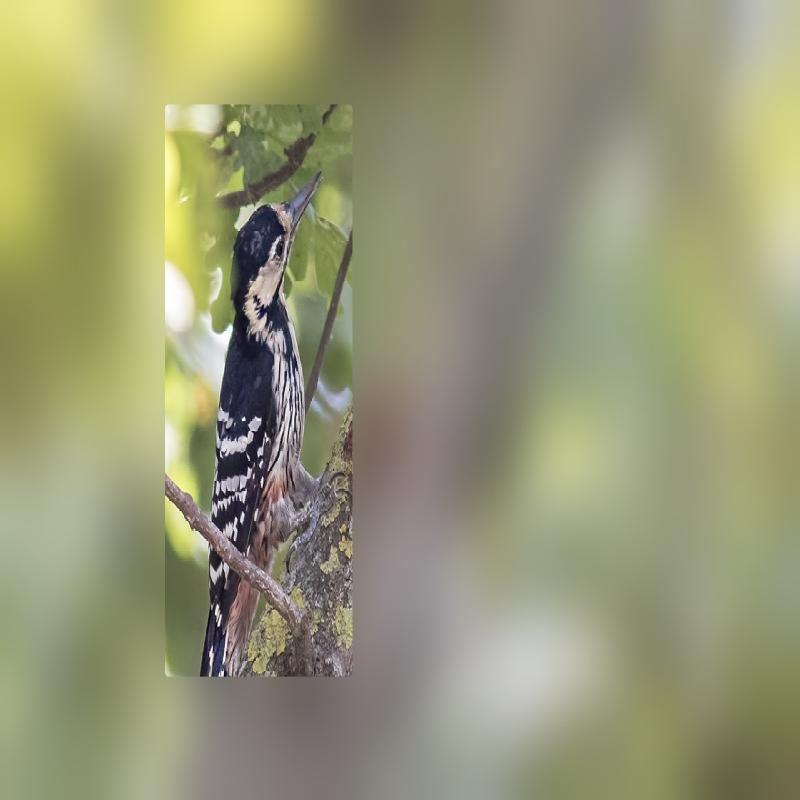white-backed woodpecker: (192, 165, 342, 670)
